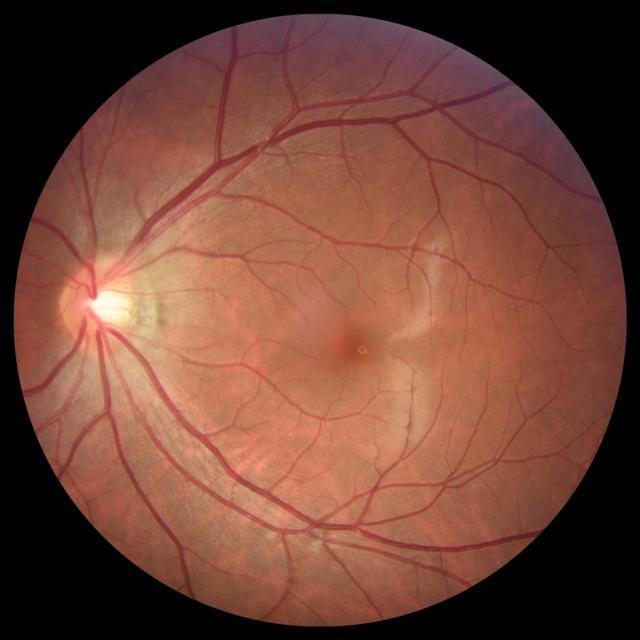OC: (82, 286, 124, 331)
OD: (62, 258, 134, 353)
